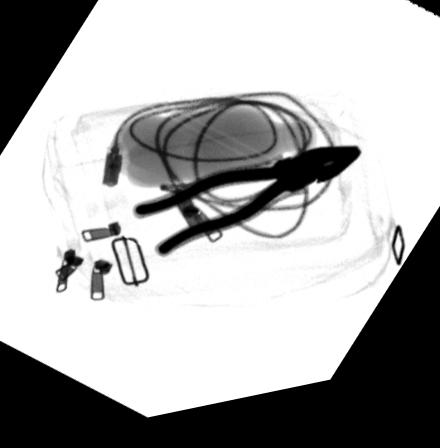Pliers: (131, 158, 361, 264)
